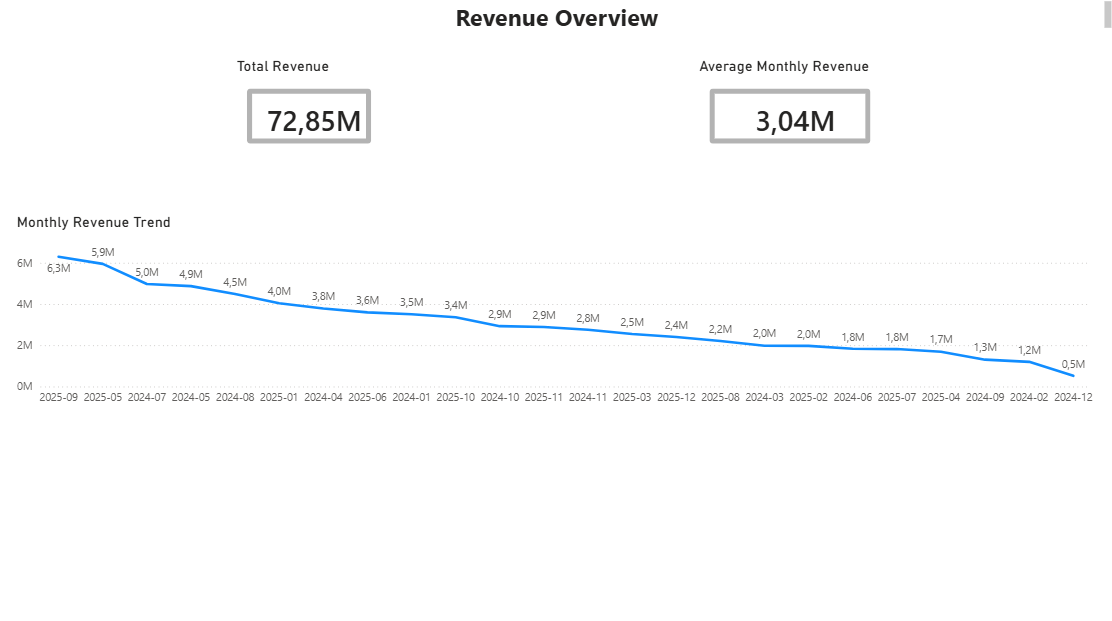

This screenshot's page, from the dashboard's own definition file:
{"tool":"powerbi","page":{"name":"Revenue Overview","canvas":[1280,720],"ordinal":0},"visuals":[{"type":"textbox","box":[10,0,1270,42.9],"z":0},{"type":"cardVisual","title":"Total Revenue","fields":{"Data":["vw_customer_revenue.Total Revenue"]},"box":[269.7,68.7,176.6,116.5],"z":1000},{"type":"cardVisual","title":"Average Monthly Revenue","fields":{"Data":["vw_customer_revenue.Avg Monthly Revenue"]},"box":[798.2,68.7,218.2,116.5],"z":2000},{"type":"lineChart","title":"Monthly Revenue Trend","fields":{"Category":["vw_monthly_revenue.Year-Month"],"Y":["Sum(vw_monthly_revenue.monthly_revenue)"]},"box":[18.4,246.4,1242,228],"z":3000}]}

Visuals, with their boxes in screenshot pixels (x1, y1, x2, y2), scaled from the page's 1280x720 canvas onto the 1112x621 screenshot:
textbox: [left=9, top=0, right=1111, bottom=37]
"Total Revenue" cardVisual: [left=234, top=59, right=388, bottom=160]
"Average Monthly Revenue" cardVisual: [left=693, top=59, right=883, bottom=160]
"Monthly Revenue Trend" lineChart: [left=16, top=213, right=1095, bottom=409]
